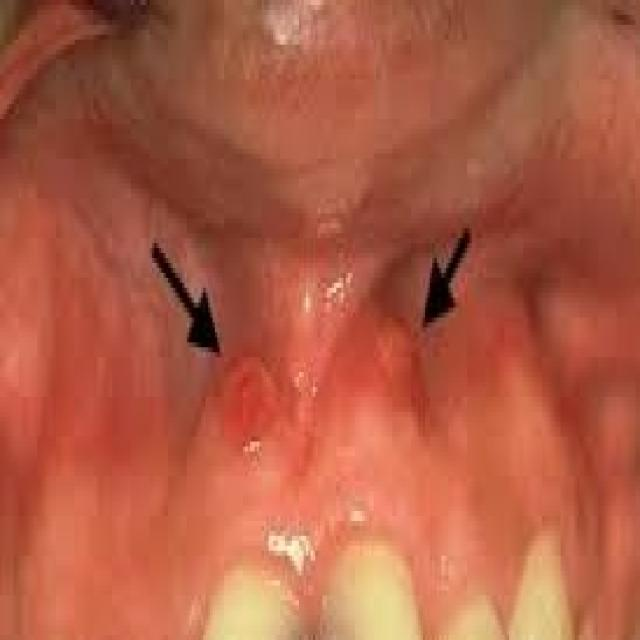abscess: (192, 309, 283, 474), (342, 291, 426, 429)
